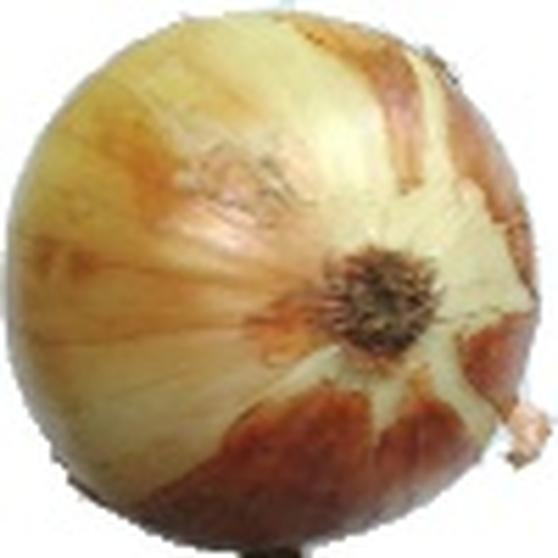onion: (3, 14, 544, 554)
